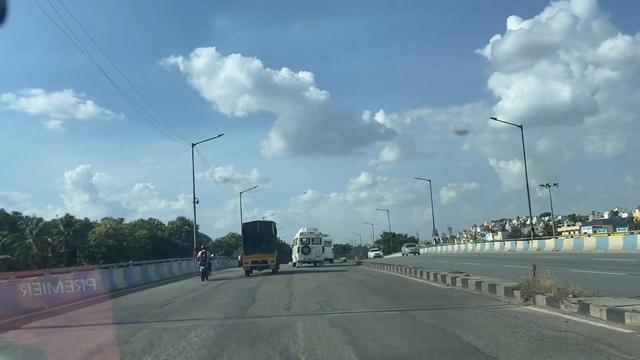HMV: (231, 220, 287, 279), (291, 225, 331, 269)
LMV: (191, 242, 216, 283)
RoadDamages: (490, 324, 610, 360), (113, 320, 236, 355), (311, 306, 375, 352), (153, 287, 184, 310)
